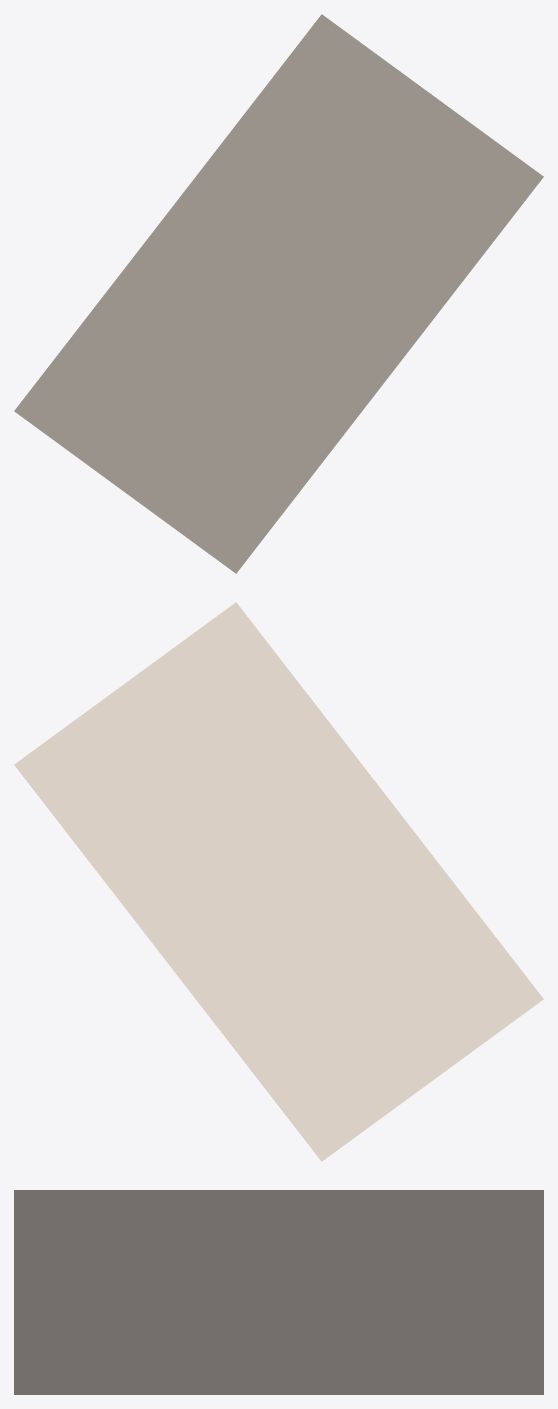
Rendered from slanted_roof.fbx.
3 renders of one model, top to bottom at view 1: azimuth 30°, elevation 25°; view 2: azimuth 150°, elevation 25°; view 3: azimuth 270°, elevation 25°, orthographic. The views are drawn at different scales.
Visible parts, largest first — view 1: SlantedRoof; view 2: SlantedRoof; view 3: SlantedRoof.
Boxes of the visible parts, x1,y1,x2,y2 form: SlantedRoof: (14,14,543,573); SlantedRoof: (14,602,543,1161); SlantedRoof: (14,1190,543,1394).
Size of the model in its own units: 160 by 160 by 200.
